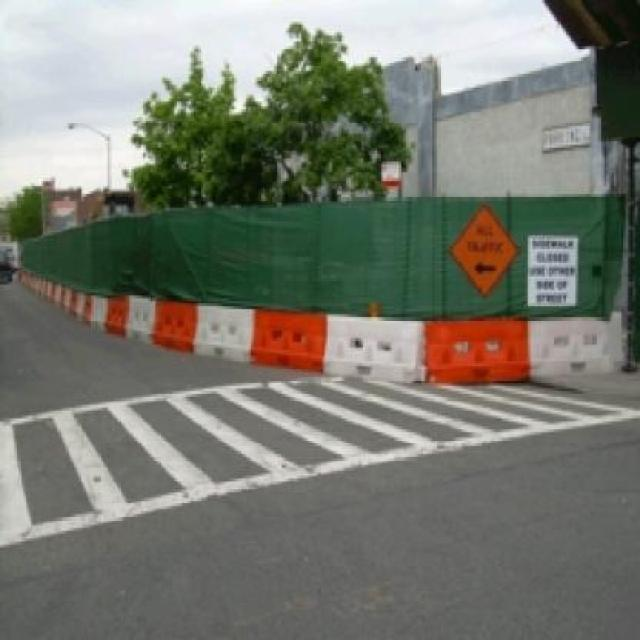fallen_object: (397, 290, 532, 393), (3, 256, 157, 340), (309, 297, 422, 408), (507, 312, 640, 393), (236, 305, 337, 376), (186, 289, 269, 373), (143, 282, 205, 364)
